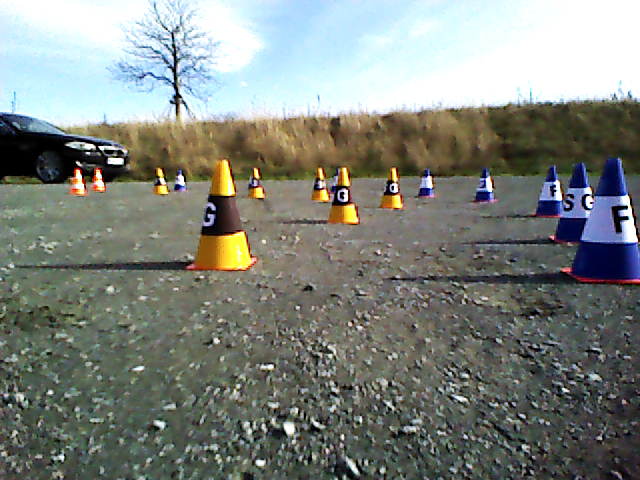bluecone: (575, 159, 640, 277), (556, 164, 591, 240), (538, 168, 564, 214), (475, 168, 495, 202), (417, 169, 435, 198)
orangeconesmall: (69, 169, 88, 195), (90, 168, 105, 192)
yellowcone: (194, 161, 252, 268), (329, 169, 357, 223), (381, 168, 404, 207), (309, 167, 329, 201), (245, 168, 265, 198)
